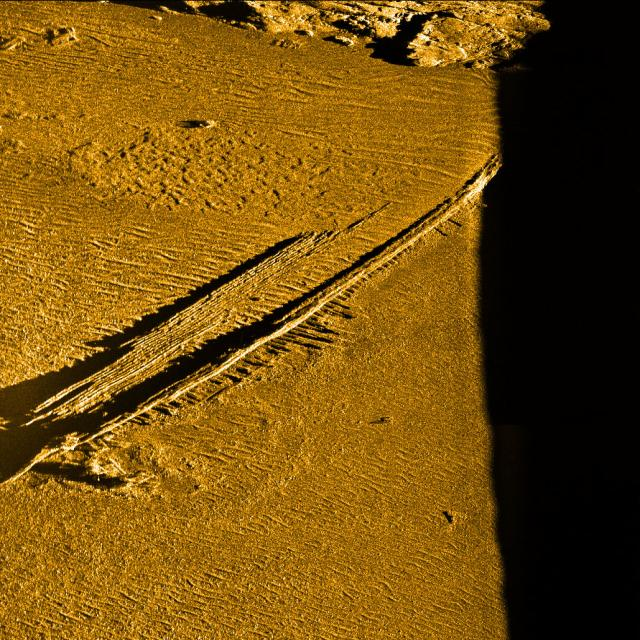other: (34, 139, 499, 485)
